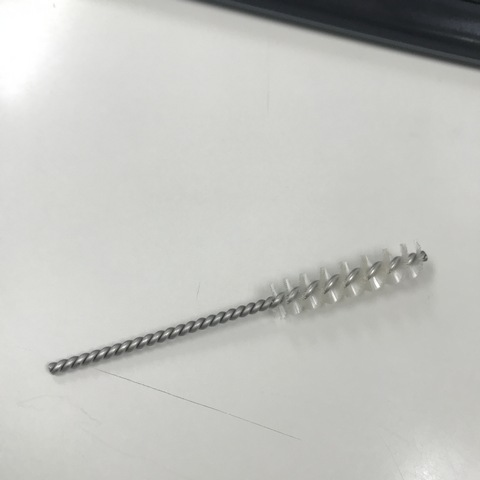Twist Brush-B: (46, 242, 429, 375)
